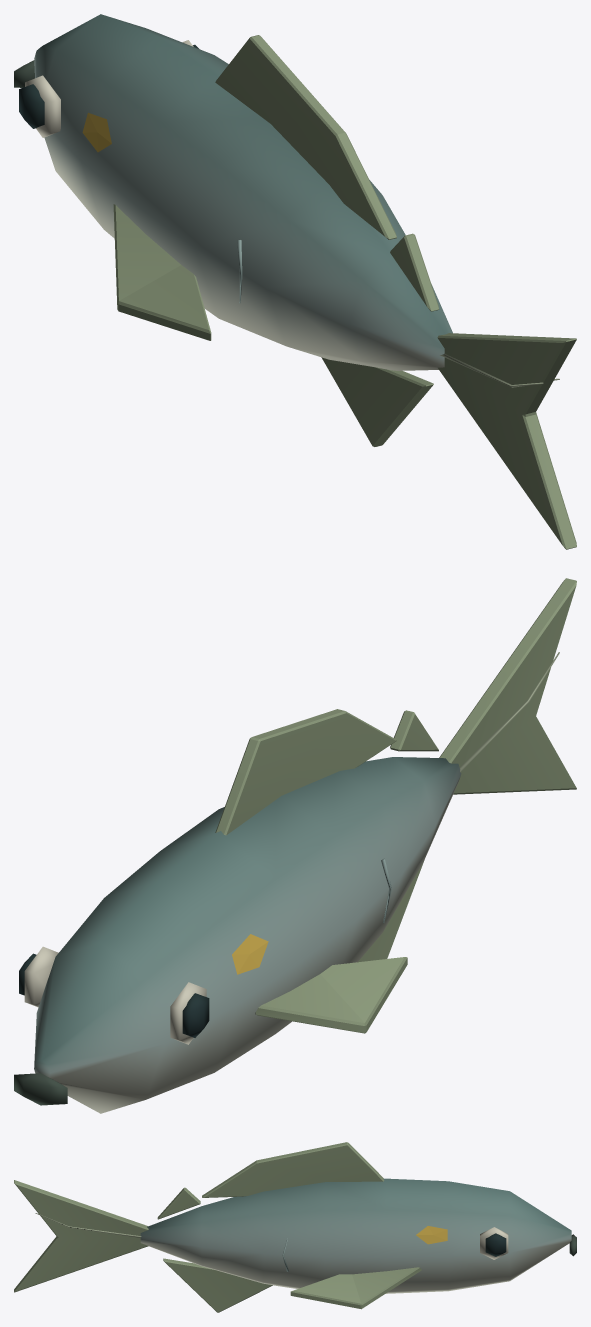
Rendered from fish_sweetfish_low.glb.
3 views of the same model, one above another, from view 1: azimuth 30°, elevation 25°; view 2: azimuth 150°, elevation 25°; view 3: azimuth 270°, elevation 25° (orthographic). The views are drawn at different scales.
Size of the model in its own units: 0.0589 by 0.0727 by 0.2198.
